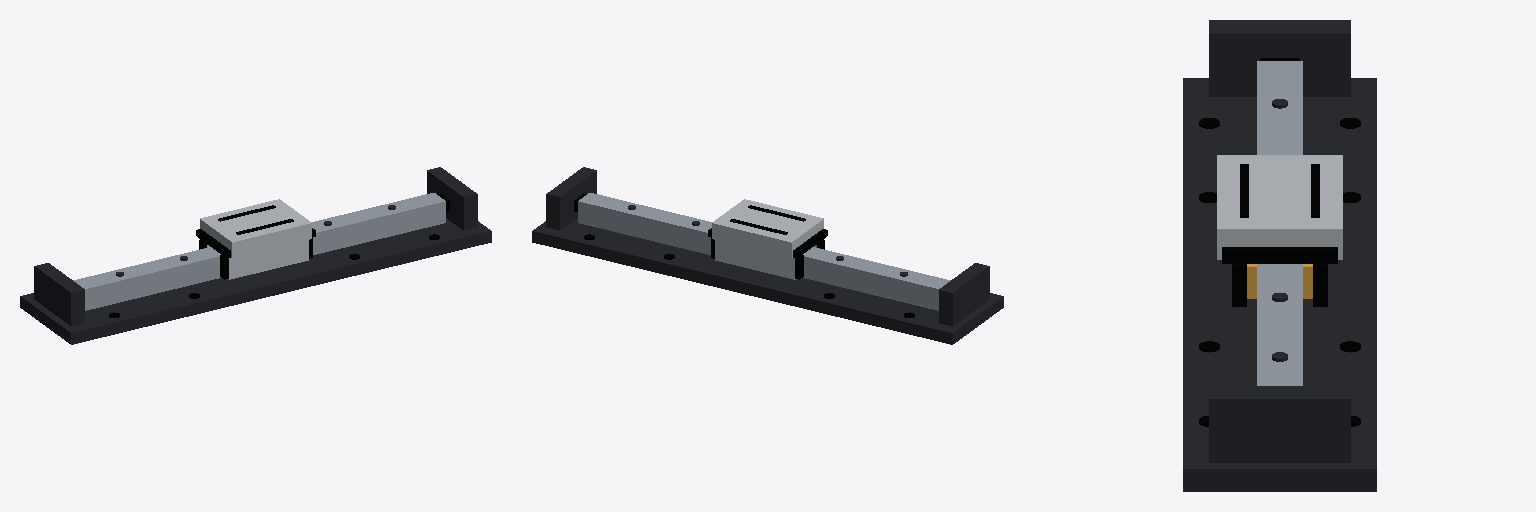
robot.urdf — machine_tool_linear_stage:
<robot name="machine_tool_linear_stage">
  <material name="ground_steel">
    <color rgba="0.62 0.65 0.68 1" />
    </material>
  <material name="dark_steel">
    <color rgba="0.18 0.19 0.21 1" />
    </material>
  <material name="anodized_aluminum">
    <color rgba="0.74 0.76 0.78 1" />
    </material>
  <material name="black_polymer">
    <color rgba="0.025 0.025 0.03 1" />
    </material>
  <material name="brass_bearing">
    <color rgba="0.86 0.66 0.3 1" />
    </material>
  <material name="rubber">
    <color rgba="0.04 0.035 0.03 1" />
    </material>
  <link name="bed">
    <visual name="base_plate">
      <origin xyz="0 0 0.014" rpy="0 0 0" />
      <geometry>
        <box size="1.05 0.22 0.028" />
        </geometry>
      <material name="dark_steel" />
      </visual>
    <visual name="rail_body">
      <origin xyz="0 0 0.054" rpy="0 0 0" />
      <geometry>
        <box size="0.92 0.052 0.052" />
        </geometry>
      <material name="ground_steel" />
      </visual>
    <visual name="rail_screw_-0.34">
      <origin xyz="-0.34 0 0.082" rpy="0 0 0" />
      <geometry>
        <cylinder radius="0.009" length="0.004" />
        </geometry>
      <material name="dark_steel" />
      </visual>
    <visual name="rail_screw_-0.18">
      <origin xyz="-0.18 0 0.082" rpy="0 0 0" />
      <geometry>
        <cylinder radius="0.009" length="0.004" />
        </geometry>
      <material name="dark_steel" />
      </visual>
    <visual name="rail_screw_+0.00">
      <origin xyz="0 0 0.082" rpy="0 0 0" />
      <geometry>
        <cylinder radius="0.009" length="0.004" />
        </geometry>
      <material name="dark_steel" />
      </visual>
    <visual name="rail_screw_+0.18">
      <origin xyz="0.18 0 0.082" rpy="0 0 0" />
      <geometry>
        <cylinder radius="0.009" length="0.004" />
        </geometry>
      <material name="dark_steel" />
      </visual>
    <visual name="rail_screw_+0.34">
      <origin xyz="0.34 0 0.082" rpy="0 0 0" />
      <geometry>
        <cylinder radius="0.009" length="0.004" />
        </geometry>
      <material name="dark_steel" />
      </visual>
    <visual name="end_stop_neg">
      <origin xyz="-0.49 0 0.068" rpy="0 0 0" />
      <geometry>
        <box size="0.035 0.16 0.08" />
        </geometry>
      <material name="dark_steel" />
      </visual>
    <visual name="bumper_neg">
      <origin xyz="-0.469 0 0.064" rpy="0 0 0" />
      <geometry>
        <box size="0.008 0.045 0.026" />
        </geometry>
      <material name="rubber" />
      </visual>
    <visual name="end_stop_pos">
      <origin xyz="0.49 0 0.068" rpy="0 0 0" />
      <geometry>
        <box size="0.035 0.16 0.08" />
        </geometry>
      <material name="dark_steel" />
      </visual>
    <visual name="bumper_pos">
      <origin xyz="0.469 0 0.064" rpy="0 0 0" />
      <geometry>
        <box size="0.008 0.045 0.026" />
        </geometry>
      <material name="rubber" />
      </visual>
    <visual name="base_bolt_-0.40_-0.08">
      <origin xyz="-0.4 -0.08 0.0295" rpy="0 0 0" />
      <geometry>
        <cylinder radius="0.012" length="0.003" />
        </geometry>
      <material name="black_polymer" />
      </visual>
    <visual name="base_bolt_-0.40_+0.08">
      <origin xyz="-0.4 0.08 0.0295" rpy="0 0 0" />
      <geometry>
        <cylinder radius="0.012" length="0.003" />
        </geometry>
      <material name="black_polymer" />
      </visual>
    <visual name="base_bolt_-0.20_-0.08">
      <origin xyz="-0.2 -0.08 0.0295" rpy="0 0 0" />
      <geometry>
        <cylinder radius="0.012" length="0.003" />
        </geometry>
      <material name="black_polymer" />
      </visual>
    <visual name="base_bolt_-0.20_+0.08">
      <origin xyz="-0.2 0.08 0.0295" rpy="0 0 0" />
      <geometry>
        <cylinder radius="0.012" length="0.003" />
        </geometry>
      <material name="black_polymer" />
      </visual>
    <visual name="base_bolt_+0.20_-0.08">
      <origin xyz="0.2 -0.08 0.0295" rpy="0 0 0" />
      <geometry>
        <cylinder radius="0.012" length="0.003" />
        </geometry>
      <material name="black_polymer" />
      </visual>
    <visual name="base_bolt_+0.20_+0.08">
      <origin xyz="0.2 0.08 0.0295" rpy="0 0 0" />
      <geometry>
        <cylinder radius="0.012" length="0.003" />
        </geometry>
      <material name="black_polymer" />
      </visual>
    <visual name="base_bolt_+0.40_-0.08">
      <origin xyz="0.4 -0.08 0.0295" rpy="0 0 0" />
      <geometry>
        <cylinder radius="0.012" length="0.003" />
        </geometry>
      <material name="black_polymer" />
      </visual>
    <visual name="base_bolt_+0.40_+0.08">
      <origin xyz="0.4 0.08 0.0295" rpy="0 0 0" />
      <geometry>
        <cylinder radius="0.012" length="0.003" />
        </geometry>
      <material name="black_polymer" />
      </visual>
    <collision name="base_plate">
      <origin xyz="0 0 0.014" rpy="0 0 0" />
      <geometry>
        <box size="1.05 0.22 0.028" />
        </geometry>
      </collision>
    <collision name="rail_body">
      <origin xyz="0 0 0.054" rpy="0 0 0" />
      <geometry>
        <box size="0.92 0.052 0.052" />
        </geometry>
      </collision>
    <collision name="rail_screw_-0.34">
      <origin xyz="-0.34 0 0.082" rpy="0 0 0" />
      <geometry>
        <cylinder radius="0.009" length="0.004" />
        </geometry>
      </collision>
    <collision name="rail_screw_-0.18">
      <origin xyz="-0.18 0 0.082" rpy="0 0 0" />
      <geometry>
        <cylinder radius="0.009" length="0.004" />
        </geometry>
      </collision>
    <collision name="rail_screw_+0.00">
      <origin xyz="0 0 0.082" rpy="0 0 0" />
      <geometry>
        <cylinder radius="0.009" length="0.004" />
        </geometry>
      </collision>
    <collision name="rail_screw_+0.18">
      <origin xyz="0.18 0 0.082" rpy="0 0 0" />
      <geometry>
        <cylinder radius="0.009" length="0.004" />
        </geometry>
      </collision>
    <collision name="rail_screw_+0.34">
      <origin xyz="0.34 0 0.082" rpy="0 0 0" />
      <geometry>
        <cylinder radius="0.009" length="0.004" />
        </geometry>
      </collision>
    <collision name="end_stop_neg">
      <origin xyz="-0.49 0 0.068" rpy="0 0 0" />
      <geometry>
        <box size="0.035 0.16 0.08" />
        </geometry>
      </collision>
    <collision name="bumper_neg">
      <origin xyz="-0.469 0 0.064" rpy="0 0 0" />
      <geometry>
        <box size="0.008 0.045 0.026" />
        </geometry>
      </collision>
    <collision name="end_stop_pos">
      <origin xyz="0.49 0 0.068" rpy="0 0 0" />
      <geometry>
        <box size="0.035 0.16 0.08" />
        </geometry>
      </collision>
    <collision name="bumper_pos">
      <origin xyz="0.469 0 0.064" rpy="0 0 0" />
      <geometry>
        <box size="0.008 0.045 0.026" />
        </geometry>
      </collision>
    <collision name="base_bolt_-0.40_-0.08">
      <origin xyz="-0.4 -0.08 0.0295" rpy="0 0 0" />
      <geometry>
        <cylinder radius="0.012" length="0.003" />
        </geometry>
      </collision>
    <collision name="base_bolt_-0.40_+0.08">
      <origin xyz="-0.4 0.08 0.0295" rpy="0 0 0" />
      <geometry>
        <cylinder radius="0.012" length="0.003" />
        </geometry>
      </collision>
    <collision name="base_bolt_-0.20_-0.08">
      <origin xyz="-0.2 -0.08 0.0295" rpy="0 0 0" />
      <geometry>
        <cylinder radius="0.012" length="0.003" />
        </geometry>
      </collision>
    <collision name="base_bolt_-0.20_+0.08">
      <origin xyz="-0.2 0.08 0.0295" rpy="0 0 0" />
      <geometry>
        <cylinder radius="0.012" length="0.003" />
        </geometry>
      </collision>
    <collision name="base_bolt_+0.20_-0.08">
      <origin xyz="0.2 -0.08 0.0295" rpy="0 0 0" />
      <geometry>
        <cylinder radius="0.012" length="0.003" />
        </geometry>
      </collision>
    <collision name="base_bolt_+0.20_+0.08">
      <origin xyz="0.2 0.08 0.0295" rpy="0 0 0" />
      <geometry>
        <cylinder radius="0.012" length="0.003" />
        </geometry>
      </collision>
    <collision name="base_bolt_+0.40_-0.08">
      <origin xyz="0.4 -0.08 0.0295" rpy="0 0 0" />
      <geometry>
        <cylinder radius="0.012" length="0.003" />
        </geometry>
      </collision>
    <collision name="base_bolt_+0.40_+0.08">
      <origin xyz="0.4 0.08 0.0295" rpy="0 0 0" />
      <geometry>
        <cylinder radius="0.012" length="0.003" />
        </geometry>
      </collision>
    </link>
  <link name="carriage">
    <visual name="top_saddle">
      <origin xyz="0 0 0.057" rpy="0 0 0" />
      <geometry>
        <box size="0.2 0.142 0.038" />
        </geometry>
      <material name="anodized_aluminum" />
      </visual>
    <visual name="side_cheek_neg">
      <origin xyz="0 -0.046 0.009" rpy="0 0 0" />
      <geometry>
        <box size="0.2 0.018 0.058" />
        </geometry>
      <material name="anodized_aluminum" />
      </visual>
    <visual name="bearing_pad_neg">
      <origin xyz="0 -0.0315 0.002" rpy="0 0 0" />
      <geometry>
        <box size="0.172 0.011 0.04" />
        </geometry>
      <material name="brass_bearing" />
      </visual>
    <visual name="side_cheek_pos">
      <origin xyz="0 0.046 0.009" rpy="0 0 0" />
      <geometry>
        <box size="0.2 0.018 0.058" />
        </geometry>
      <material name="anodized_aluminum" />
      </visual>
    <visual name="bearing_pad_pos">
      <origin xyz="0 0.0315 0.002" rpy="0 0 0" />
      <geometry>
        <box size="0.172 0.011 0.04" />
        </geometry>
      <material name="brass_bearing" />
      </visual>
    <visual name="wiper_bridge_neg">
      <origin xyz="-0.105 0 0.046" rpy="0 0 0" />
      <geometry>
        <box size="0.012 0.13064 0.016" />
        </geometry>
      <material name="black_polymer" />
      </visual>
    <visual name="wiper_side_neg_neg">
      <origin xyz="-0.105 -0.046 0.009" rpy="0 0 0" />
      <geometry>
        <box size="0.012 0.018 0.05104" />
        </geometry>
      <material name="black_polymer" />
      </visual>
    <visual name="wiper_side_neg_pos">
      <origin xyz="-0.105 0.046 0.009" rpy="0 0 0" />
      <geometry>
        <box size="0.012 0.018 0.05104" />
        </geometry>
      <material name="black_polymer" />
      </visual>
    <visual name="wiper_bridge_pos">
      <origin xyz="0.105 0 0.046" rpy="0 0 0" />
      <geometry>
        <box size="0.012 0.13064 0.016" />
        </geometry>
      <material name="black_polymer" />
      </visual>
    <visual name="wiper_side_pos_neg">
      <origin xyz="0.105 -0.046 0.009" rpy="0 0 0" />
      <geometry>
        <box size="0.012 0.018 0.05104" />
        </geometry>
      <material name="black_polymer" />
      </visual>
    <visual name="wiper_side_pos_pos">
      <origin xyz="0.105 0.046 0.009" rpy="0 0 0" />
      <geometry>
        <box size="0.012 0.018 0.05104" />
        </geometry>
      <material name="black_polymer" />
      </visual>
    <visual name="table_slot_-0.04">
      <origin xyz="0 -0.04 0.0775" rpy="0 0 0" />
      <geometry>
        <box size="0.14 0.01 0.003" />
        </geometry>
      <material name="black_polymer" />
      </visual>
    <visual name="table_slot_+0.04">
      <origin xyz="0 0.04 0.0775" rpy="0 0 0" />
      <geometry>
        <box size="0.14 0.01 0.003" />
        </geometry>
      <material name="black_polymer" />
      </visual>
    <collision name="top_saddle">
      <origin xyz="0 0 0.057" rpy="0 0 0" />
      <geometry>
        <box size="0.2 0.142 0.038" />
        </geometry>
      </collision>
    <collision name="side_cheek_neg">
      <origin xyz="0 -0.046 0.009" rpy="0 0 0" />
      <geometry>
        <box size="0.2 0.018 0.058" />
        </geometry>
      </collision>
    <collision name="bearing_pad_neg">
      <origin xyz="0 -0.0315 0.002" rpy="0 0 0" />
      <geometry>
        <box size="0.172 0.011 0.04" />
        </geometry>
      </collision>
    <collision name="side_cheek_pos">
      <origin xyz="0 0.046 0.009" rpy="0 0 0" />
      <geometry>
        <box size="0.2 0.018 0.058" />
        </geometry>
      </collision>
    <collision name="bearing_pad_pos">
      <origin xyz="0 0.0315 0.002" rpy="0 0 0" />
      <geometry>
        <box size="0.172 0.011 0.04" />
        </geometry>
      </collision>
    <collision name="wiper_bridge_neg">
      <origin xyz="-0.105 0 0.046" rpy="0 0 0" />
      <geometry>
        <box size="0.012 0.13064 0.016" />
        </geometry>
      </collision>
    <collision name="wiper_side_neg_neg">
      <origin xyz="-0.105 -0.046 0.009" rpy="0 0 0" />
      <geometry>
        <box size="0.012 0.018 0.05104" />
        </geometry>
      </collision>
    <collision name="wiper_side_neg_pos">
      <origin xyz="-0.105 0.046 0.009" rpy="0 0 0" />
      <geometry>
        <box size="0.012 0.018 0.05104" />
        </geometry>
      </collision>
    <collision name="wiper_bridge_pos">
      <origin xyz="0.105 0 0.046" rpy="0 0 0" />
      <geometry>
        <box size="0.012 0.13064 0.016" />
        </geometry>
      </collision>
    <collision name="wiper_side_pos_neg">
      <origin xyz="0.105 -0.046 0.009" rpy="0 0 0" />
      <geometry>
        <box size="0.012 0.018 0.05104" />
        </geometry>
      </collision>
    <collision name="wiper_side_pos_pos">
      <origin xyz="0.105 0.046 0.009" rpy="0 0 0" />
      <geometry>
        <box size="0.012 0.018 0.05104" />
        </geometry>
      </collision>
    <collision name="table_slot_-0.04">
      <origin xyz="0 -0.04 0.0775" rpy="0 0 0" />
      <geometry>
        <box size="0.14 0.01 0.003" />
        </geometry>
      </collision>
    <collision name="table_slot_+0.04">
      <origin xyz="0 0.04 0.0775" rpy="0 0 0" />
      <geometry>
        <box size="0.14 0.01 0.003" />
        </geometry>
      </collision>
    </link>
  <joint name="bed_to_carriage" type="prismatic">
    <origin xyz="0 0 0.054" rpy="0 0 0" />
    <parent link="bed" />
    <child link="carriage" />
    <axis xyz="1 0 0" />
    <limit effort="1200" velocity="0.35" lower="-0.28" upper="0.28" />
    </joint>
  </robot>

--- Render facts (derived) ---
3 views of the same robot in one strip: view 1: azimuth 30°, elevation 25°; view 2: azimuth 150°, elevation 25°; view 3: azimuth 270°, elevation 25° (orthographic).
Model machine_tool_linear_stage with 2 links and 1 joints (1 prismatic), rooted at bed, posed all joints at 0.
Visible links, largest first — view 1: bed, carriage; view 2: bed, carriage; view 3: bed, carriage.
Link boxes in pixels (x1,y1,x2,y2): bed: (20, 167, 491, 344); carriage: (196, 199, 315, 279); bed: (532, 167, 1003, 344); carriage: (708, 199, 827, 279); bed: (1183, 20, 1376, 491); carriage: (1217, 155, 1342, 306).
Bounding box of the posed robot: 1.05 × 0.22 × 0.133 m (x, y, z).
Geometry: primitives only (box / cylinder / sphere), no mesh files.
